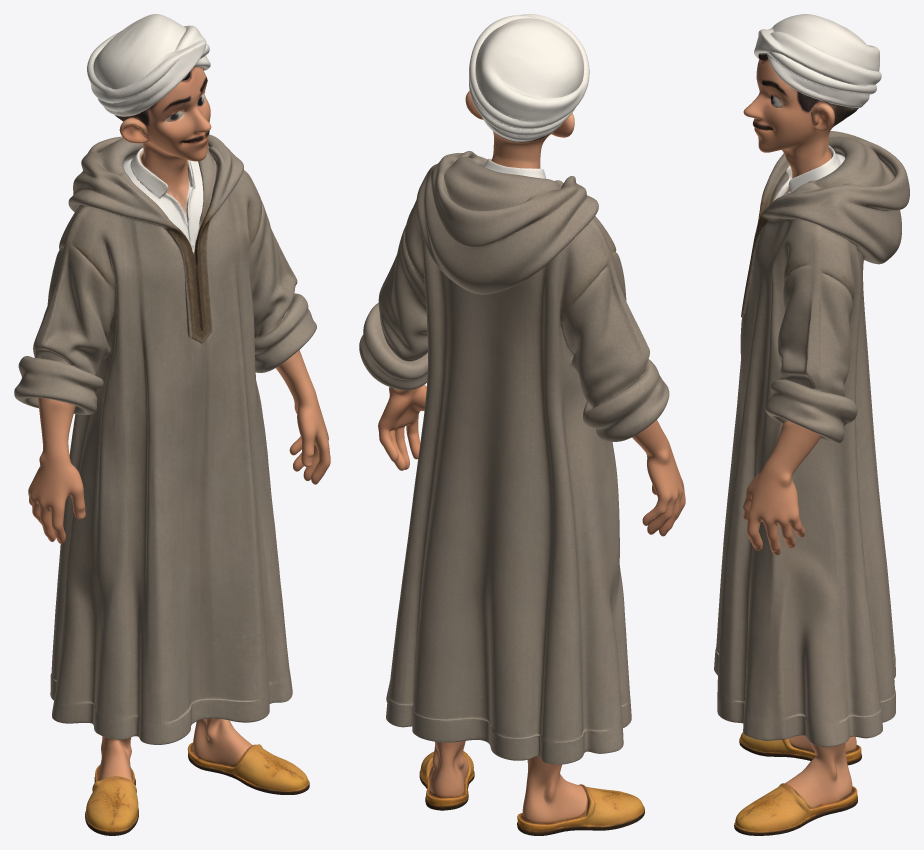
The model's file is marchand__base_basic_pbr.glb.
The picture shows the model from 3 angles, left to right: view 1: azimuth 30°, elevation 25°; view 2: azimuth 150°, elevation 25°; view 3: azimuth 270°, elevation 25°; orthographic projection. The views are drawn at different scales.
Parts seen in each view (by area): view 1: model; view 2: model; view 3: model.
Part boxes in pixels (x1,y1,x2,y2): model: [14, 14, 330, 835]; model: [359, 14, 685, 835]; model: [714, 14, 909, 835].
Size of the model in its own units: 0.7538 by 1.9 by 0.4441.
1 material, 1 textured.
